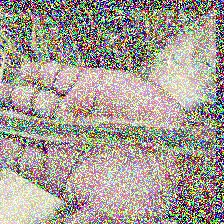Leaf_Blast: (0, 112, 211, 150)
